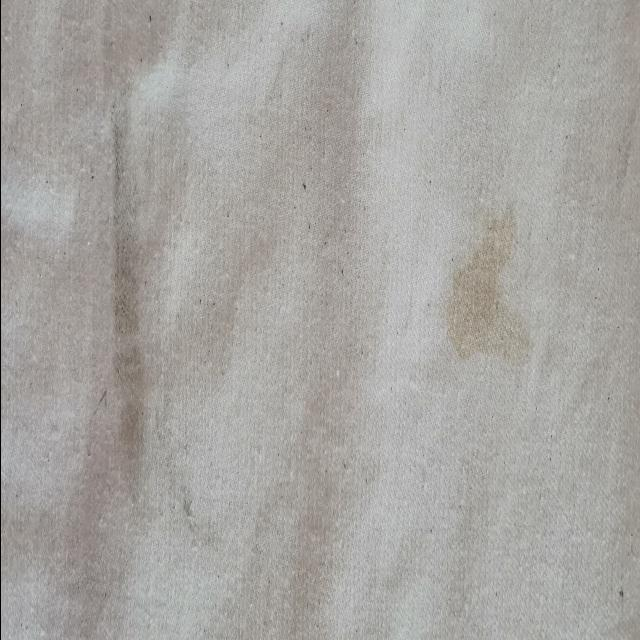taaaches: (96, 46, 156, 512), (432, 173, 548, 381)
